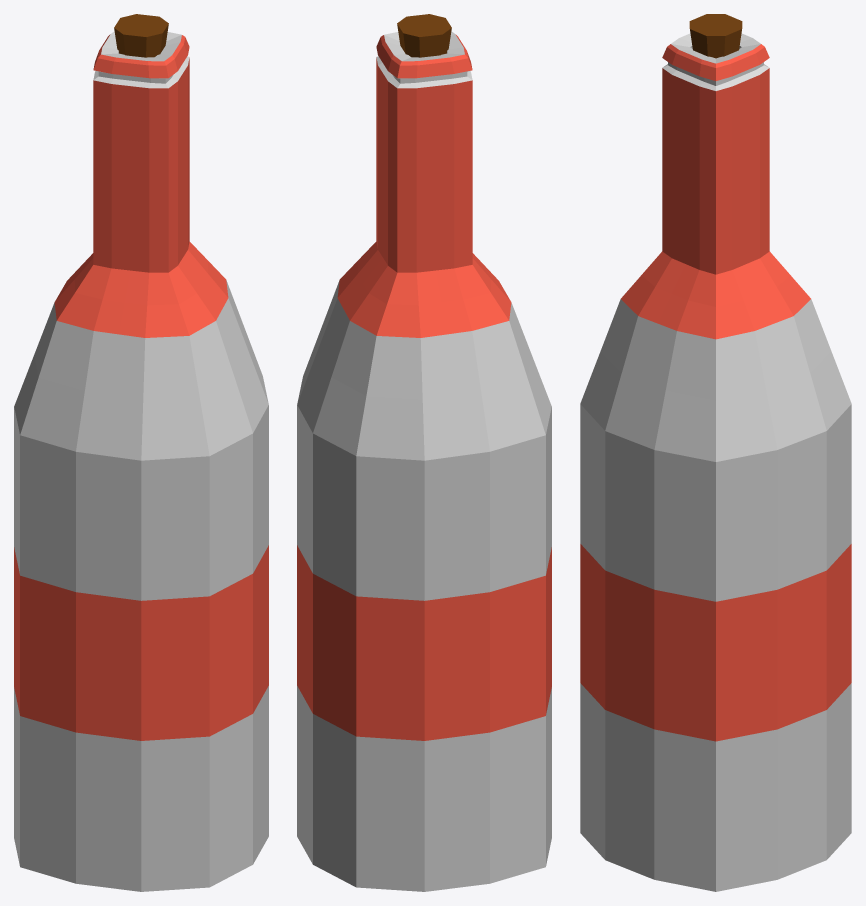
The model's file is Bottle_Red.fbx.
3 views of the same model, side by side, from view 1: azimuth 30°, elevation 25°; view 2: azimuth 150°, elevation 25°; view 3: azimuth 270°, elevation 25° (orthographic).
Parts seen in each view (by area): view 1: Bottle-1; view 2: Bottle-1; view 3: Bottle-1.
Part boxes in pixels (box(x1,y1,x2,y2)): Bottle-1: box(14, 14, 268, 891); Bottle-1: box(297, 14, 551, 891); Bottle-1: box(580, 14, 851, 891).
Size of the model in its own units: 4.4 by 14.08 by 4.29.
